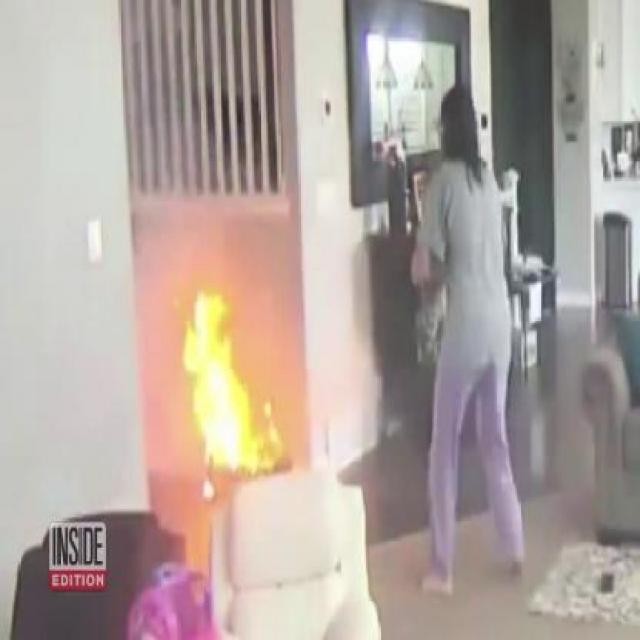fire: (186, 292, 286, 499)
